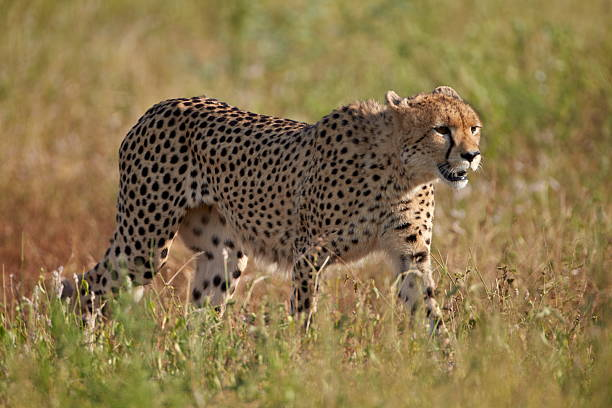cheetah: (376, 81, 493, 199)
